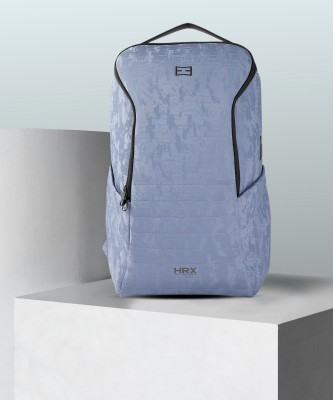backpack: (102, 22, 271, 297)
